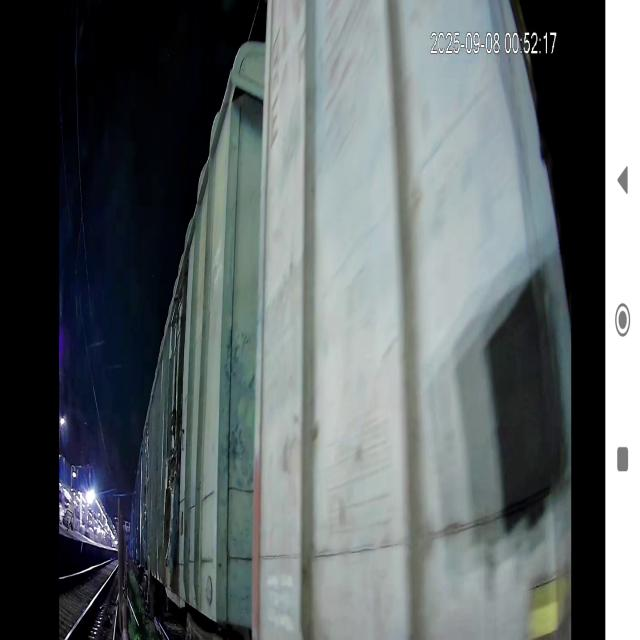joint: (196, 0, 325, 640)
